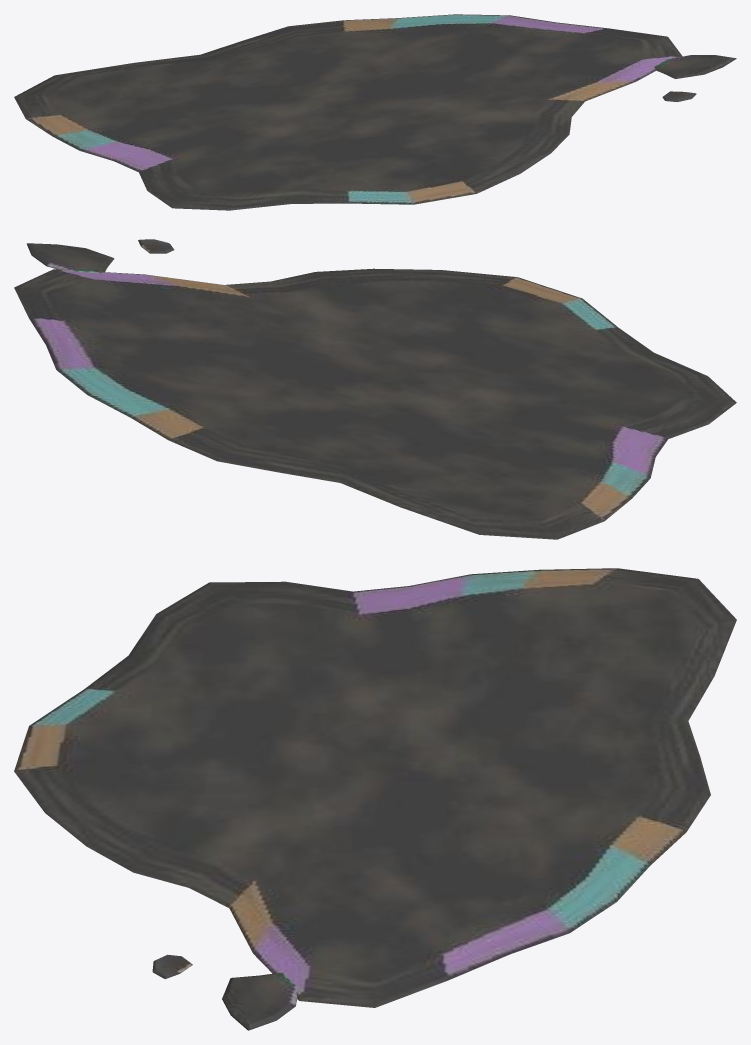
The model's file is JV25_oil_puddle_flat.glb.
3 renders of one model, top to bottom at view 1: azimuth 30°, elevation 25°; view 2: azimuth 150°, elevation 25°; view 3: azimuth 270°, elevation 25°, orthographic. The views are drawn at different scales.
Visible parts, largest first — view 1: Oil puddle; view 2: Oil puddle; view 3: Oil puddle.
Part boxes in pixels (x1,y1,x2,y2): Oil puddle: (14,14,736,210); Oil puddle: (14,239,736,539); Oil puddle: (14,568,736,1030).
Size of the model in its own units: 1 by 0.00505 by 0.6605.
Materials: 4 (4 with a texture image).
